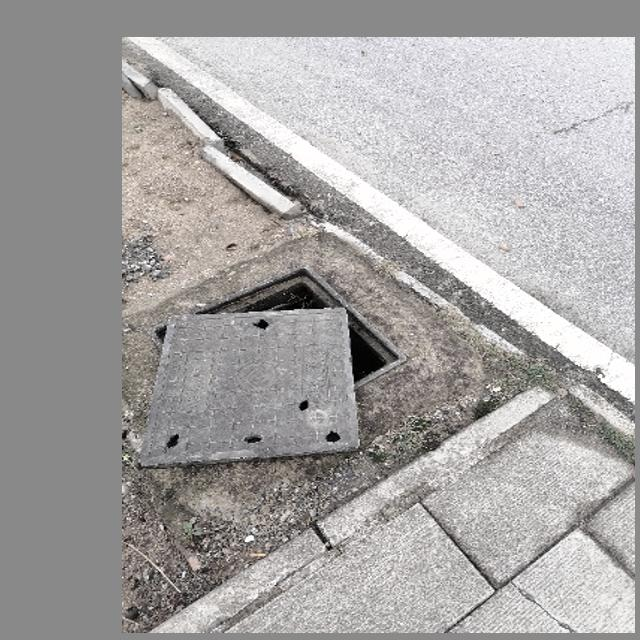uncovered: (139, 264, 410, 470)
